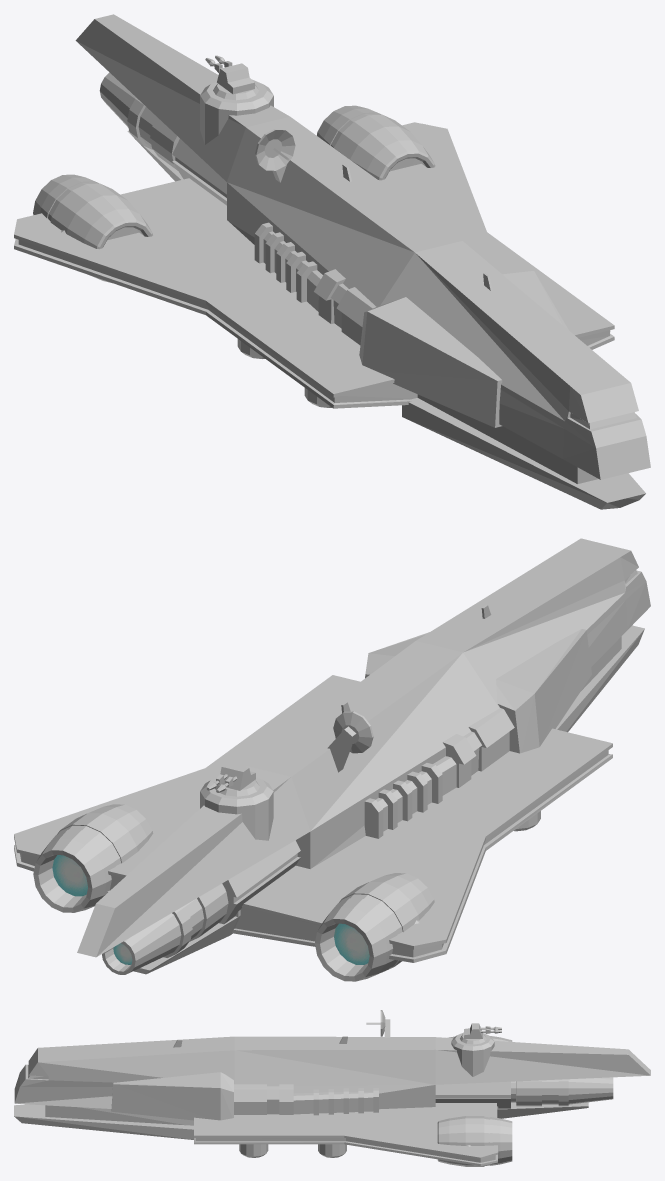
Rendered from Gozanti_Empire_01.obj.
3 views of the same model, one above another, from view 1: azimuth 30°, elevation 25°; view 2: azimuth 150°, elevation 25°; view 3: azimuth 270°, elevation 25° (orthographic). The views are drawn at different scales.
Parts seen in each view (by area): view 1: Hull; view 2: Hull, Engine; view 3: Hull.
Boxes of the visible parts, x1=… form: Hull: x1=14, y1=14, x2=650, y2=509; Hull: x1=14, y1=538, x2=650, y2=981; Engine: x1=52, y1=855, x2=369, y2=964; Hull: x1=14, y1=1010, x2=650, y2=1166.
Bounding box in the file's own units: 244 × 101 × 528.
